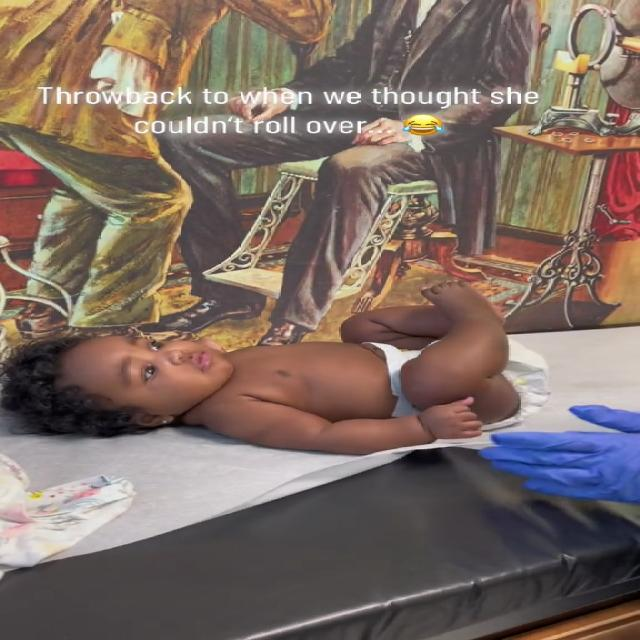baby: (0, 271, 543, 457)
